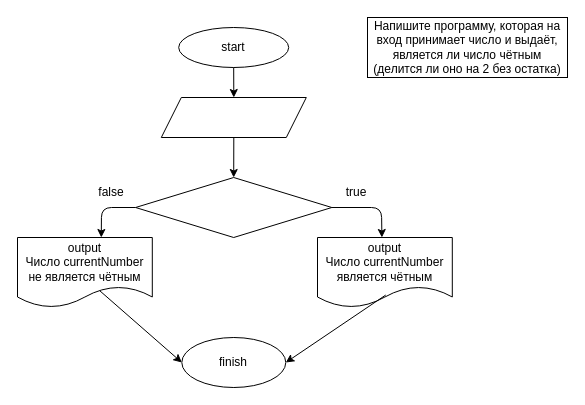
Some shapes in this 585 by 405 pixel diagram are drawn without their labels. The centre of each missing label's shape, as x and y in pixels:
"currentNumber mod 2 ==0" belongs at point (233, 207).
"input currentNumber" belongs at point (233, 117).
